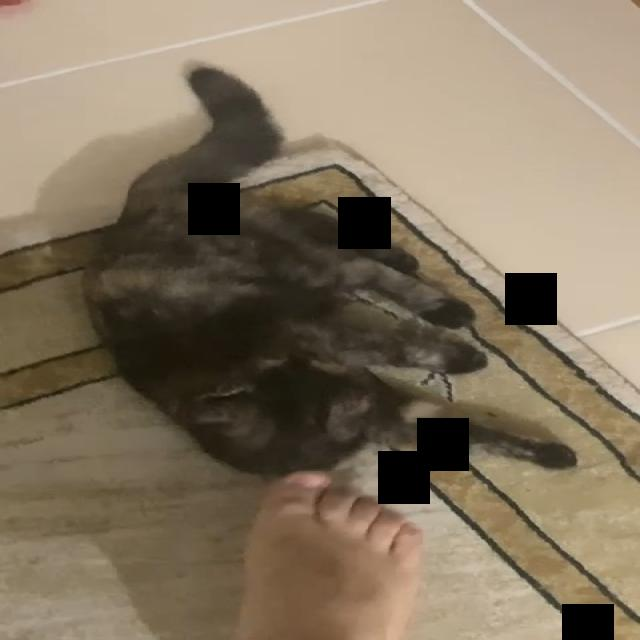authorized: (79, 59, 577, 478)
